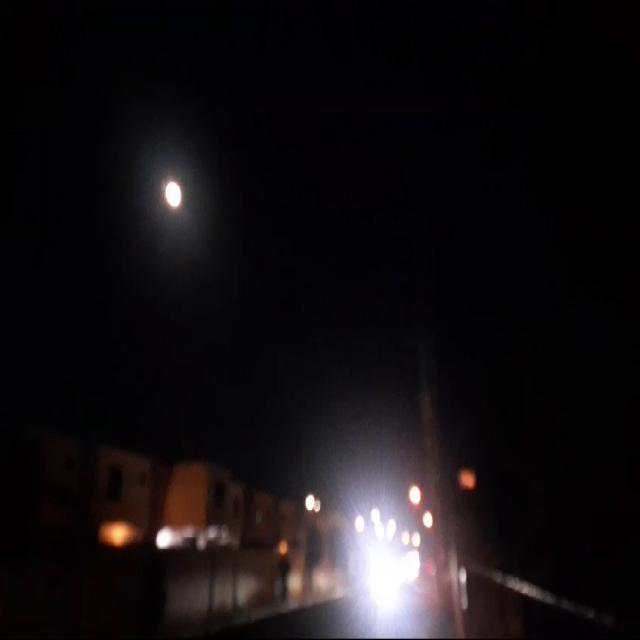moon: (167, 178, 186, 212)
